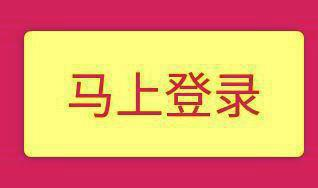Button: (1, 1, 317, 187)
